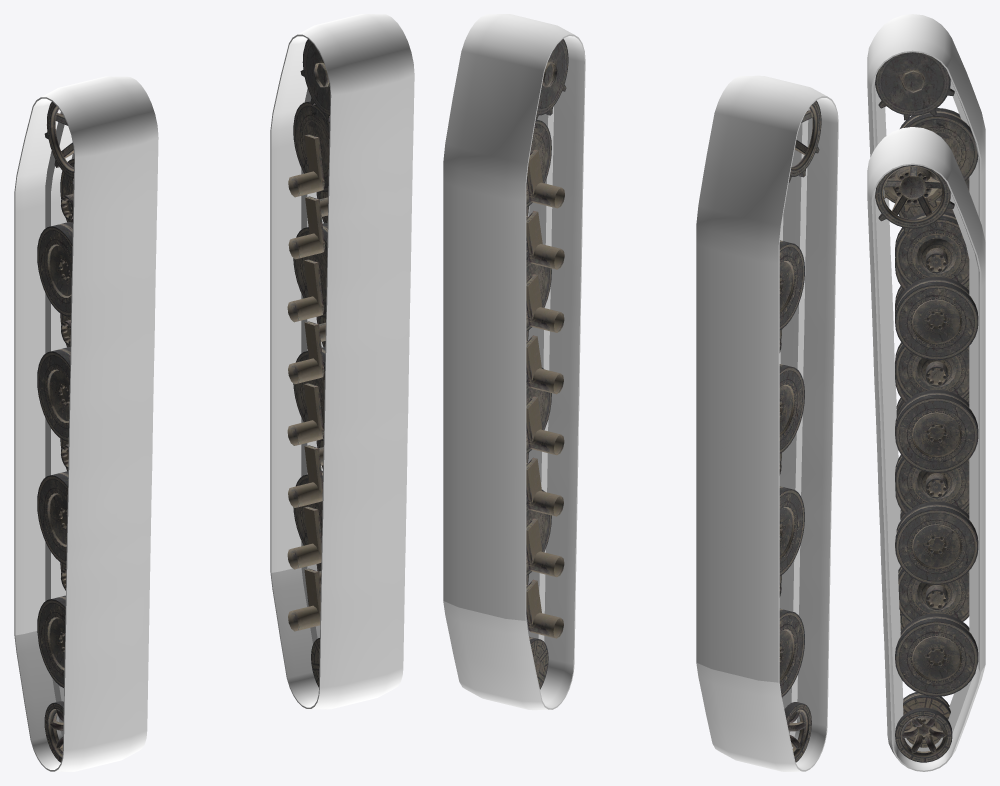
Rendered from Chassis.glb.
3 views of the same model, side by side, from view 1: azimuth 30°, elevation 25°; view 2: azimuth 150°, elevation 25°; view 3: azimuth 270°, elevation 25° (orthographic). The views are drawn at different scales.
Visible parts, largest first — view 1: set_0_group_0, set_1_group_0, set_3_group_0, set_2_group_0; view 2: set_0_group_0, set_1_group_0, set_3_group_0, set_2_group_0; view 3: set_3_group_0, set_1_group_0, set_0_group_0, set_2_group_0.
Part boxes in pixels (x1,y1,x2,y2): set_0_group_0: [14, 76, 158, 771]; set_1_group_0: [270, 14, 414, 709]; set_3_group_0: [287, 39, 330, 687]; set_2_group_0: [37, 101, 74, 762]; set_0_group_0: [696, 75, 838, 771]; set_1_group_0: [443, 14, 585, 710]; set_3_group_0: [526, 38, 568, 689]; set_2_group_0: [779, 100, 821, 762]; set_3_group_0: [875, 165, 978, 762]; set_1_group_0: [867, 127, 985, 771]; set_0_group_0: [867, 14, 985, 569]; set_2_group_0: [875, 52, 978, 631].
Size of the model in its own units: 4.07 by 7.83 by 1.37.
4 materials, 2 textured.
